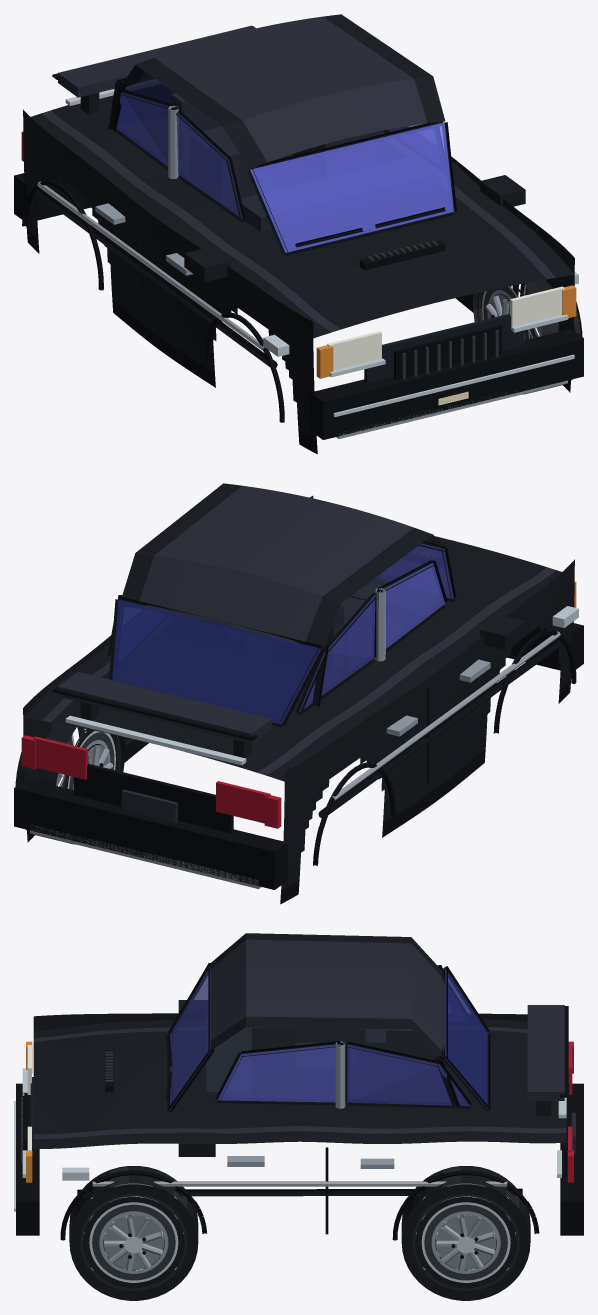
Rendered from black_maria_complete_heritage.obj.
The picture shows the model from 3 angles, top to bottom: view 1: azimuth 30°, elevation 25°; view 2: azimuth 150°, elevation 25°; view 3: azimuth 270°, elevation 25°; orthographic projection. The views are drawn at different scales.
Parts seen in each view (by area): view 1: BODY_HOOD, ROOF, BODY_SIDE, FRONT_GLASS, BUMPERS, DASHBOARD, WINDOW_FRAMES, SEATS, FRONT_SIDE_GLASS, FRONT_LIGHTS, REAR_WING, GRILLE (+18 smaller); view 2: ROOF, BODY_HOOD, BODY_SIDE, REAR_GLASS, BUMPERS, REAR_WING, WINDOW_FRAMES, END_PANEL, REAR_LIGHTS, FRONT_SIDE_GLASS, REAR_SIDE_GLASS, BODY_MOLDING (+16 smaller); view 3: BODY_HOOD, ROOF, WHEEL_SIDE, WINDOW_FRAMES, FRONT_SIDE_GLASS, REAR_SIDE_GLASS, BUMPERS, REAR_WING, SEATS, REAR_GLASS, WHEEL_DISC, WHEEL_TREAD (+14 smaller).
Boxes of the visible parts, box(x1,y1,x2,y2) form: BODY_HOOD: box(25, 95, 574, 338); ROOF: box(120, 14, 445, 168); BODY_SIDE: box(23, 109, 574, 454); FRONT_GLASS: box(250, 122, 453, 252); BUMPERS: box(14, 173, 583, 439); DASHBOARD: box(236, 157, 438, 232); WINDOW_FRAMES: box(109, 77, 456, 255); SEATS: box(190, 126, 381, 202); FRONT_SIDE_GLASS: box(174, 109, 444, 219); FRONT_LIGHTS: box(327, 286, 564, 370); REAR_WING: box(58, 25, 255, 97); GRILLE: box(394, 325, 502, 379); ROOF: box(122, 483, 444, 649); BODY_HOOD: box(23, 536, 571, 781); BODY_SIDE: box(23, 496, 574, 904); REAR_GLASS: box(112, 599, 320, 724); BUMPERS: box(14, 623, 583, 889); REAR_WING: box(58, 672, 271, 743); WINDOW_FRAMES: box(109, 541, 456, 727); END_PANEL: box(73, 763, 233, 833); REAR_LIGHTS: box(33, 736, 270, 823); FRONT_SIDE_GLASS: box(379, 563, 444, 648); REAR_SIDE_GLASS: box(299, 594, 375, 712); BODY_MOLDING: box(318, 635, 567, 818); BODY_HOOD: box(33, 1019, 566, 1148); ROOF: box(210, 933, 444, 1063); WHEEL_SIDE: box(69, 1166, 530, 1300); WINDOW_FRAMES: box(167, 963, 490, 1112); FRONT_SIDE_GLASS: box(218, 1044, 340, 1102); REAR_SIDE_GLASS: box(347, 1044, 469, 1105); BUMPERS: box(16, 1083, 583, 1235); REAR_WING: box(527, 1005, 564, 1100); SEATS: box(295, 1028, 355, 1112); REAR_GLASS: box(445, 968, 487, 1108); WHEEL_DISC: box(103, 1196, 496, 1270); WHEEL_TREAD: box(69, 1166, 530, 1288).
Bounding box in the file's own units: 2.06 × 1.68 × 3.38.
